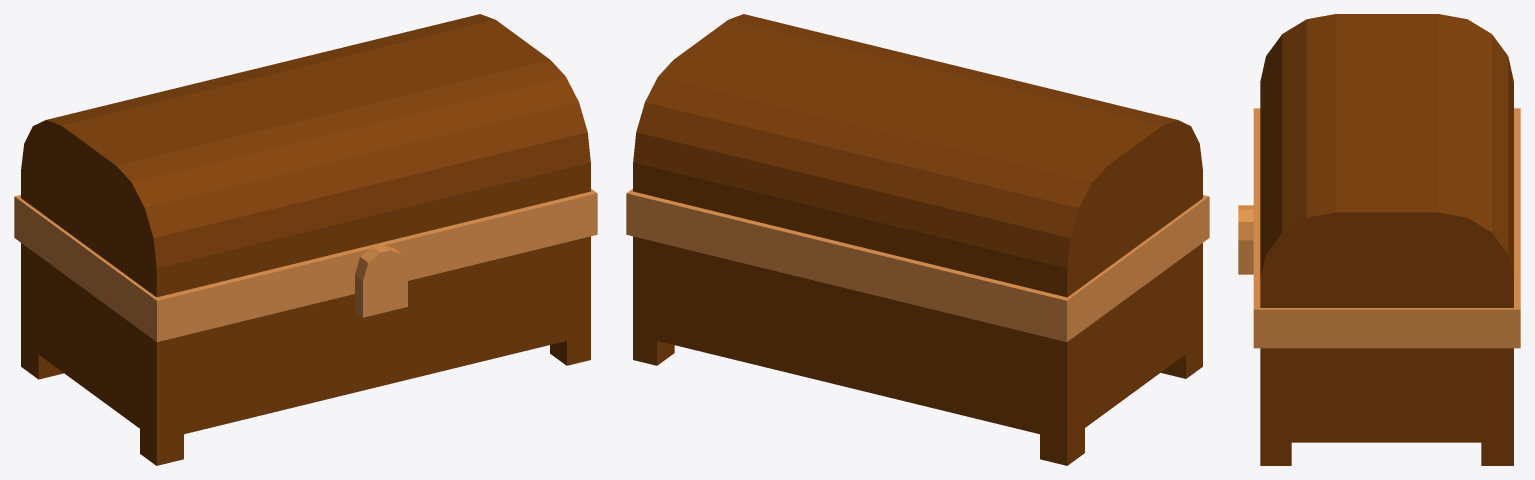
The model's file is Chest 1.fbx.
3 renders of one model, left to right at view 1: azimuth 30°, elevation 25°; view 2: azimuth 150°, elevation 25°; view 3: azimuth 270°, elevation 25°, orthographic. The views are drawn at different scales.
Parts seen in each view (by area): view 1: Cube, Cube.001, Cube.002; view 2: Cube, Cube.001; view 3: Cube, Cube.001, Cube.002.
Part boxes in pixels (<box>): Cube: <box>21,14,590,465</box>; Cube.001: <box>14,189,597,341</box>; Cube.002: <box>354,244,407,317</box>; Cube: <box>633,14,1202,465</box>; Cube.001: <box>626,189,1209,341</box>; Cube: <box>1260,14,1513,465</box>; Cube.001: <box>1253,108,1520,348</box>; Cube.002: <box>1238,205,1253,274</box>.
Size of the model in its own units: 375 by 220 by 222.
